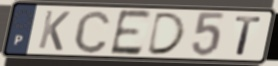5: (189, 11, 227, 60)
C: (72, 9, 113, 55)
D: (145, 12, 188, 57)
E: (108, 9, 154, 57)
K: (36, 9, 73, 53)
T: (233, 15, 263, 57)
